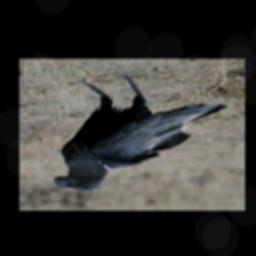Crow: (50, 74, 227, 191)
